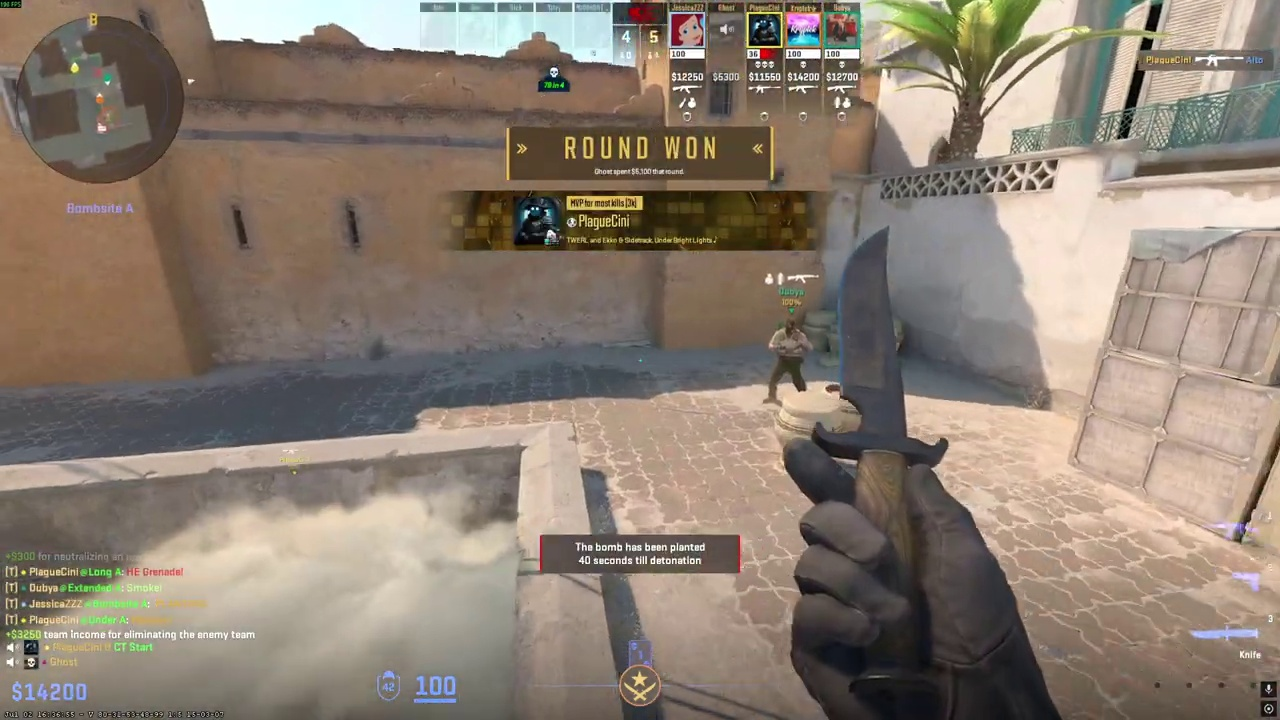Terrorist: (765, 318, 812, 403)
